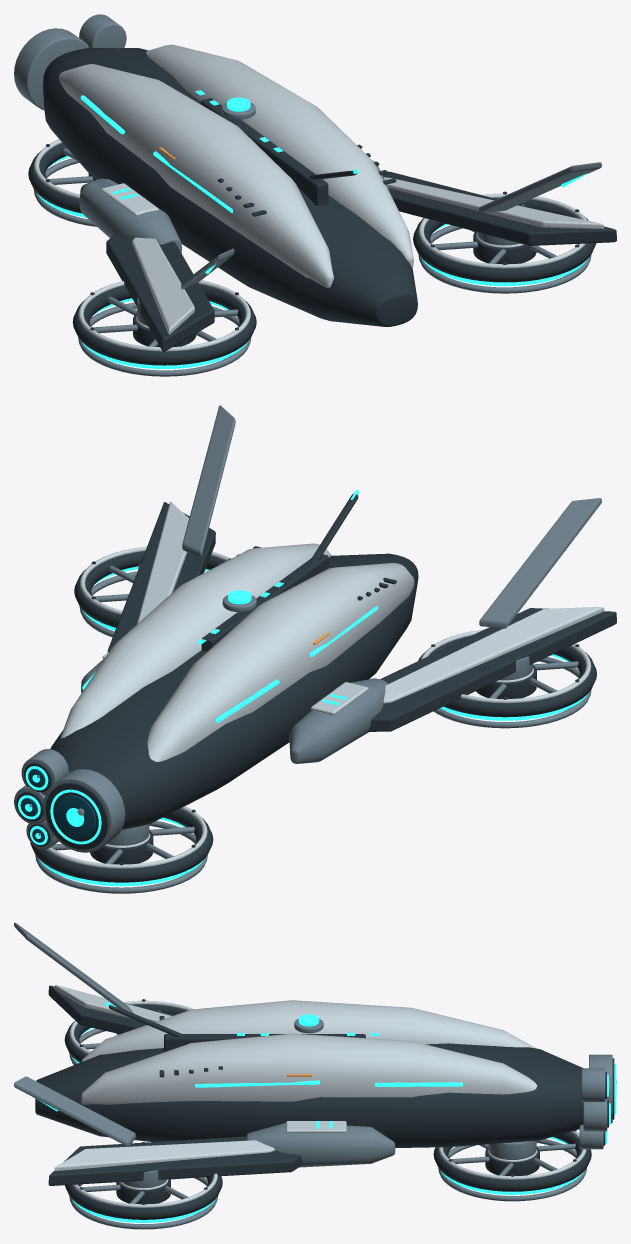
The model's file is scout_drone.glb.
3 renders of one model, top to bottom at view 1: azimuth 30°, elevation 25°; view 2: azimuth 150°, elevation 25°; view 3: azimuth 270°, elevation 25°, orthographic. The views are drawn at different scales.
Visible parts, largest first — view 1: Scout / 02 • graphite chassis, Scout / 01 • ceramic titanium, Scout / 03 • machined edges, Scout / 04 • cyan levitation / telemetry; view 2: Scout / 02 • graphite chassis, Scout / 01 • ceramic titanium, Scout / 03 • machined edges, Scout / 04 • cyan levitation / telemetry, Scout / 05 • optical sapphire; view 3: Scout / 01 • ceramic titanium, Scout / 02 • graphite chassis, Scout / 03 • machined edges, Scout / 04 • cyan levitation / telemetry.
Boxes of the visible parts, x1=… form: Scout / 02 • graphite chassis: x1=28, y1=48, x2=616, y2=365; Scout / 01 • ceramic titanium: x1=34, y1=44, x2=604, y2=351; Scout / 03 • machined edges: x1=14, y1=14, x2=601, y2=376; Scout / 04 • cyan levitation / telemetry: x1=37, y1=90, x2=588, y2=368; Scout / 02 • graphite chassis: x1=16, y1=493, x2=616, y2=882; Scout / 01 • ceramic titanium: x1=29, y1=501, x2=604, y2=868; Scout / 03 • machined edges: x1=14, y1=405, x2=601, y2=893; Scout / 04 • cyan levitation / telemetry: x1=18, y1=490, x2=588, y2=886; Scout / 05 • optical sapphire: x1=20, y1=769, x2=96, y2=842; Scout / 01 • ceramic titanium: x1=54, y1=985, x2=616, y2=1207; Scout / 02 • graphite chassis: x1=35, y1=985, x2=614, y2=1219; Scout / 03 • machined edges: x1=14, y1=922, x2=612, y2=1229; Scout / 04 • cyan levitation / telemetry: x1=22, y1=1002, x2=616, y2=1222.
Size of the model in its own units: 67.54 by 25.37 by 82.12.
